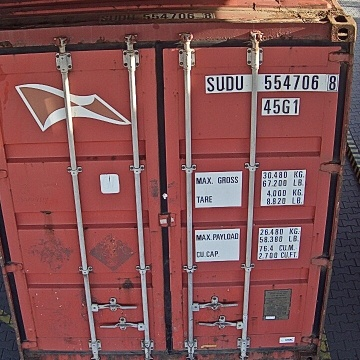serial_id: (206, 75, 337, 91)
